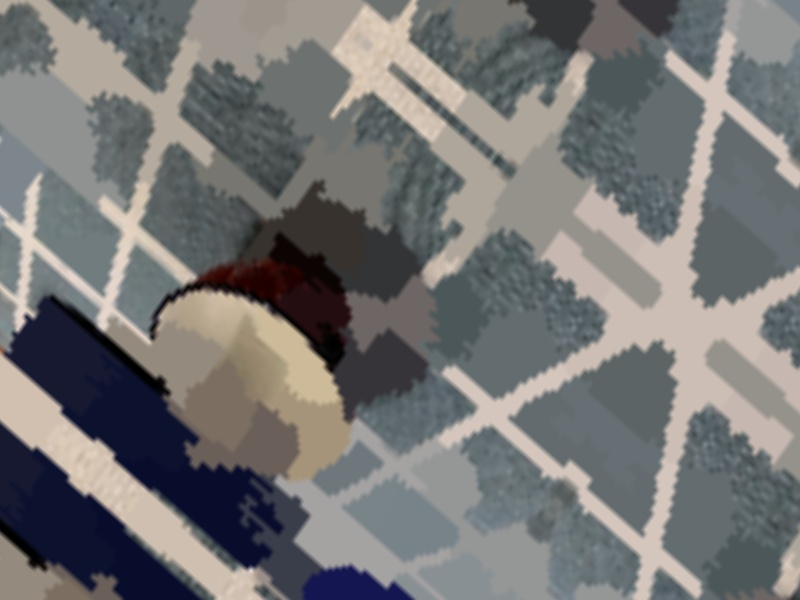bowl_small: (112, 186, 426, 531)
